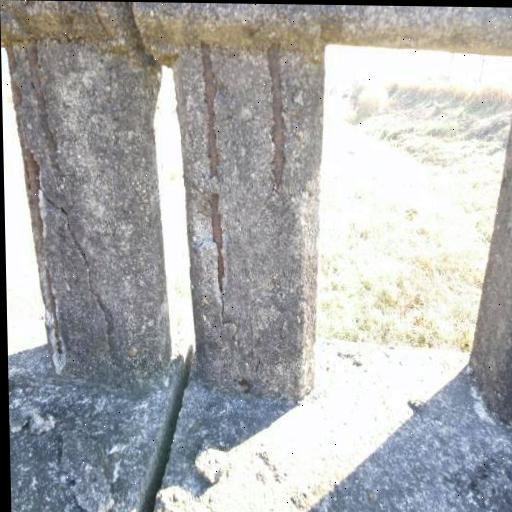exposed_rebar: (27, 153, 63, 355), (26, 40, 62, 179), (267, 47, 284, 189), (201, 46, 218, 176), (211, 193, 224, 289), (7, 45, 22, 112), (18, 119, 26, 153)
